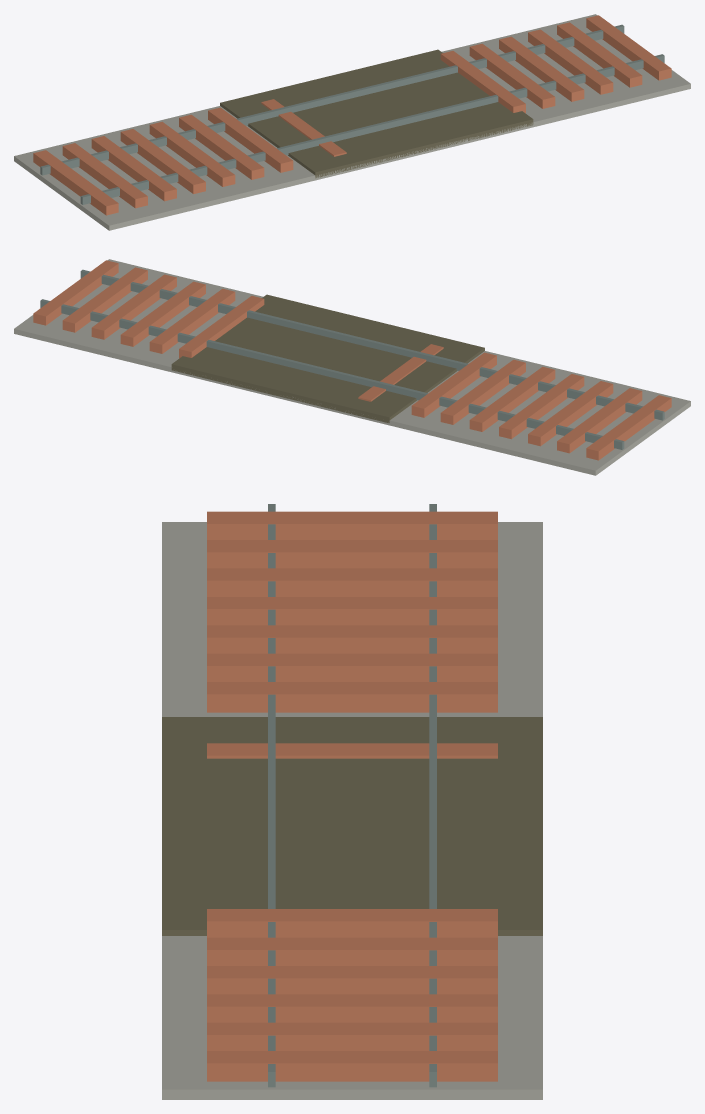
The model's file is SM_ViaRota_v2_Socavon_LOD0.fbx.
3 views of the same model, one above another, from view 1: azimuth 30°, elevation 25°; view 2: azimuth 150°, elevation 25°; view 3: azimuth 270°, elevation 25° (orthographic). The views are drawn at different scales.
Parts seen in each view (by area): view 1: SM_aqui_paso_algo_v7_LOD0; view 2: SM_aqui_paso_algo_v7_LOD0; view 3: SM_aqui_paso_algo_v7_LOD0.
Part boxes in pixels (bbox=[...]): SM_aqui_paso_algo_v7_LOD0: bbox=[14, 14, 690, 230]; SM_aqui_paso_algo_v7_LOD0: bbox=[14, 259, 690, 475]; SM_aqui_paso_algo_v7_LOD0: bbox=[162, 504, 542, 1099].
Size of the model in its own units: 12 by 0.37 by 3.4.
